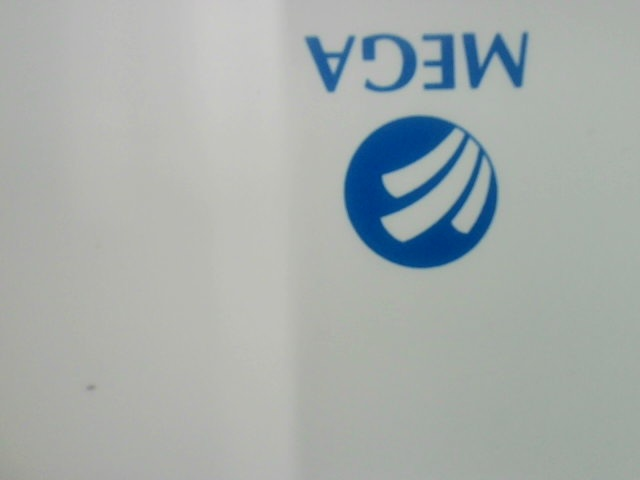AM_ZTEMEGA: (288, 17, 542, 280)
